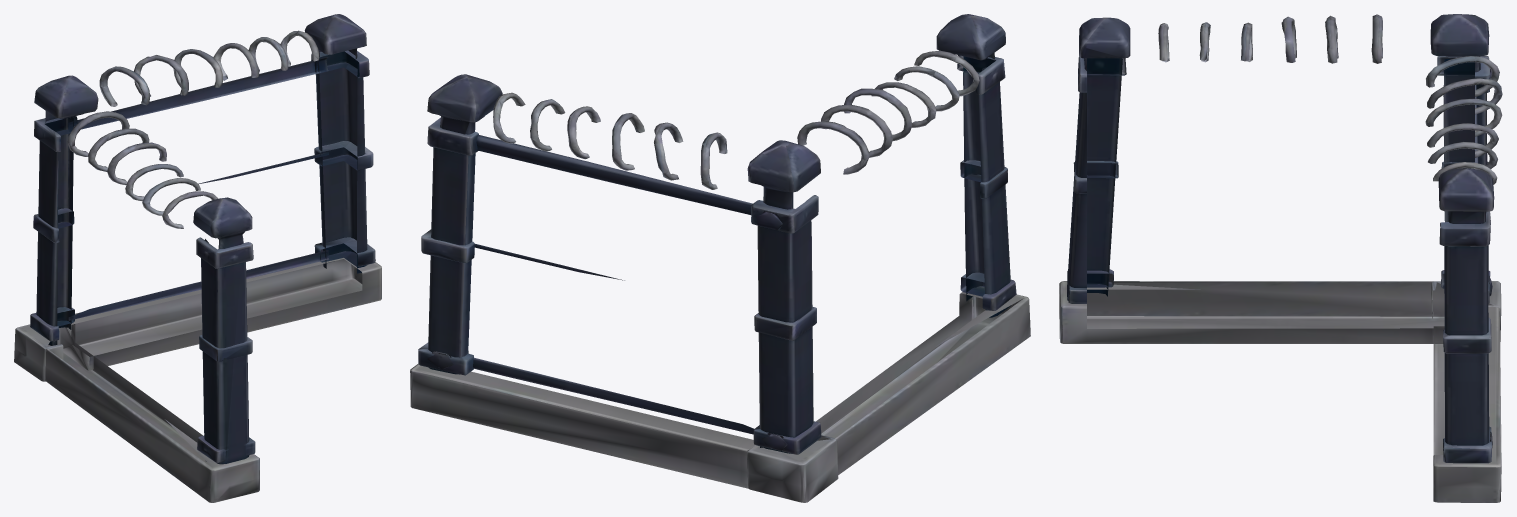
The model's file is fence-corner.glb.
3 renders of one model, left to right at view 1: azimuth 30°, elevation 25°; view 2: azimuth 150°, elevation 25°; view 3: azimuth 270°, elevation 25°, orthographic. The views are drawn at different scales.
Parts seen in each view (by area): view 1: meshy-fence-corner; view 2: meshy-fence-corner; view 3: meshy-fence-corner.
Part boxes in pixels (x1,y1,x2,y2): meshy-fence-corner: (14, 14, 381, 502); meshy-fence-corner: (410, 14, 1030, 502); meshy-fence-corner: (1059, 14, 1502, 502).
Size of the model in its own units: 4 by 3.2 by 4.
Materials: 1 (1 with a texture image).
